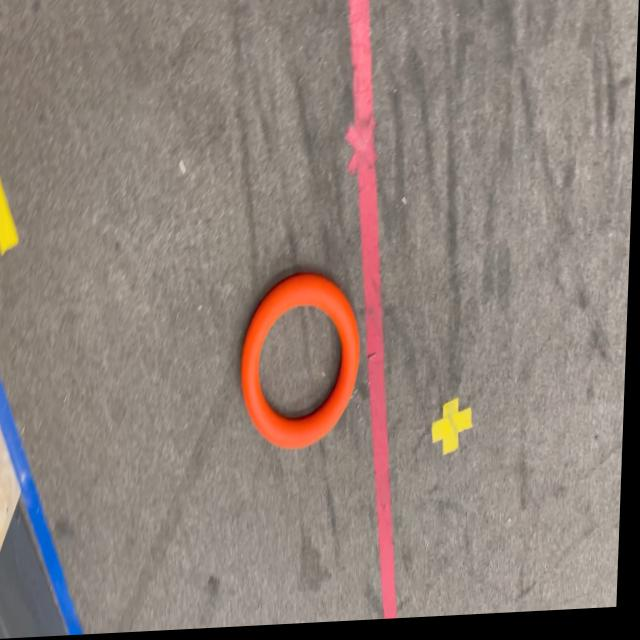note: (241, 271, 366, 455)
